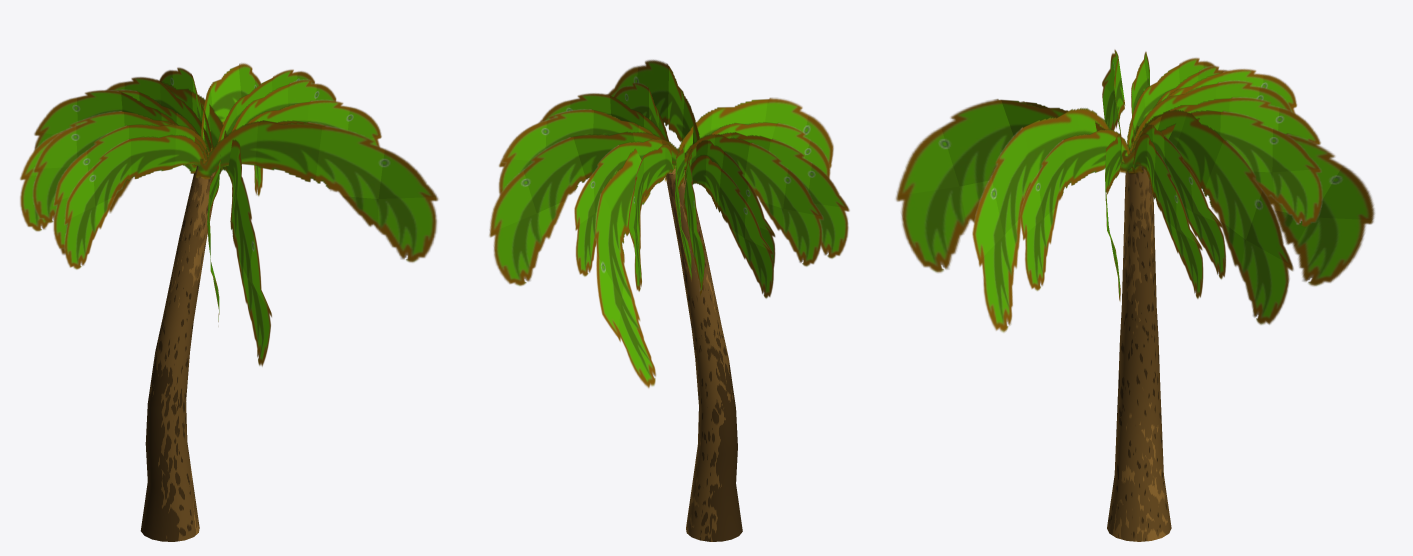
The model's file is Tree3.glb.
3 views of the same model, side by side, from view 1: azimuth 30°, elevation 25°; view 2: azimuth 150°, elevation 25°; view 3: azimuth 270°, elevation 25° (orthographic). The views are drawn at different scales.
Parts seen in each view (by area): view 1: palm_leafs2.036, Cylinder.001, palm_leafs2.028, palm_leafs2.038, palm_leafs2.027, palm_leafs2.026, palm_leafs2.033, palm_leafs2.031, palm_leafs2.034, palm_leafs2.019, palm_leafs2.018, palm_leafs2.021 (+5 smaller); view 2: Cylinder.001, palm_leafs2.034, palm_leafs2.029, palm_leafs2.026, palm_leafs2.021, palm_leafs2.035, palm_leafs2.028, palm_leafs2.027, palm_leafs2.030, palm_leafs2.036, palm_leafs2.018, palm_leafs2.037 (+5 smaller); view 3: Cylinder.001, palm_leafs2.027, palm_leafs2.034, palm_leafs2.036, palm_leafs2.029, palm_leafs2.030, palm_leafs2.024, palm_leafs2.019, palm_leafs2.035, palm_leafs2.018, palm_leafs2.017, palm_leafs2.038 (+4 smaller).
Part boxes in pixels (x1,y1,x2,y2): palm_leafs2.036: [195, 121, 438, 262]; Cylinder.001: [140, 166, 215, 541]; palm_leafs2.028: [64, 134, 208, 269]; palm_leafs2.038: [32, 110, 207, 222]; palm_leafs2.027: [220, 139, 271, 366]; palm_leafs2.026: [53, 124, 212, 249]; palm_leafs2.033: [34, 90, 177, 151]; palm_leafs2.031: [221, 100, 381, 169]; palm_leafs2.034: [201, 63, 262, 196]; palm_leafs2.019: [231, 79, 336, 132]; palm_leafs2.018: [106, 77, 211, 151]; palm_leafs2.021: [20, 118, 196, 231]; Cylinder.001: [666, 168, 742, 541]; palm_leafs2.034: [489, 131, 688, 285]; palm_leafs2.029: [594, 148, 656, 388]; palm_leafs2.026: [684, 134, 823, 266]; palm_leafs2.021: [691, 155, 773, 298]; palm_leafs2.035: [499, 109, 654, 194]; palm_leafs2.028: [720, 132, 849, 258]; palm_leafs2.027: [664, 97, 833, 181]; palm_leafs2.030: [574, 138, 675, 276]; palm_leafs2.036: [607, 59, 699, 144]; palm_leafs2.018: [627, 144, 674, 291]; palm_leafs2.037: [710, 122, 830, 178]; Cylinder.001: [1107, 151, 1171, 541]; palm_leafs2.027: [895, 99, 1143, 272]; palm_leafs2.034: [1131, 109, 1293, 324]; palm_leafs2.036: [972, 108, 1110, 332]; palm_leafs2.029: [1120, 118, 1374, 286]; palm_leafs2.030: [1129, 110, 1322, 226]; palm_leafs2.024: [1020, 129, 1131, 290]; palm_leafs2.019: [1131, 133, 1203, 298]; palm_leafs2.035: [1140, 124, 1225, 279]; palm_leafs2.018: [1132, 97, 1320, 149]; palm_leafs2.017: [1127, 80, 1291, 151]; palm_leafs2.038: [1127, 57, 1218, 148].
Size of the model in its own units: 18.28 by 24.41 by 22.37.
2 materials, 2 textured.
